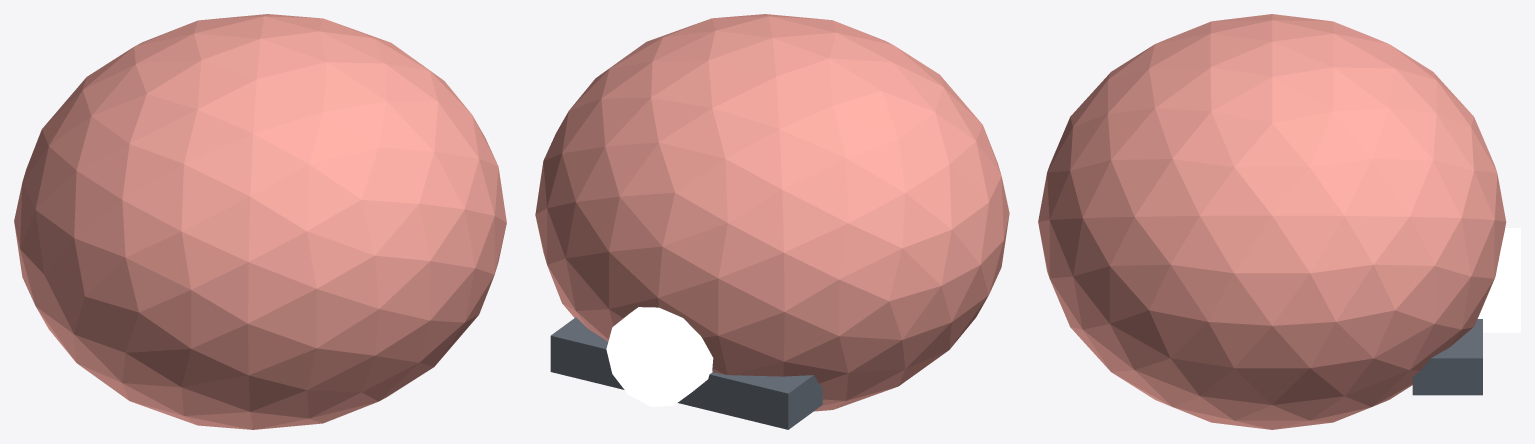
The model's file is inhibidor_1.glb.
3 views of the same model, side by side, from view 1: azimuth 30°, elevation 25°; view 2: azimuth 150°, elevation 25°; view 3: azimuth 270°, elevation 25° (orthographic). The views are drawn at different scales.
Parts seen in each view (by area): view 1: casco; view 2: casco, visera, linterna; view 3: casco, visera, linterna.
Boxes of the visible parts, x1,y1,x2,y2 form: casco: (14,14,506,429); casco: (535,14,1009,411); visera: (550,317,822,429); linterna: (606,307,713,406); casco: (1038,14,1506,429); visera: (1412,319,1482,395); linterna: (1477,228,1520,332).
Bounding box in the file's own units: 0.9 × 0.7286 × 0.8839.
